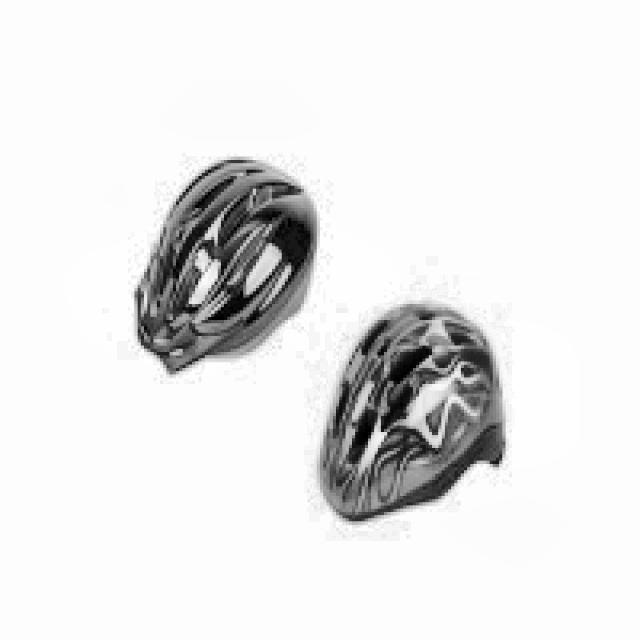Helmet: (306, 291, 526, 537), (117, 141, 325, 382)
